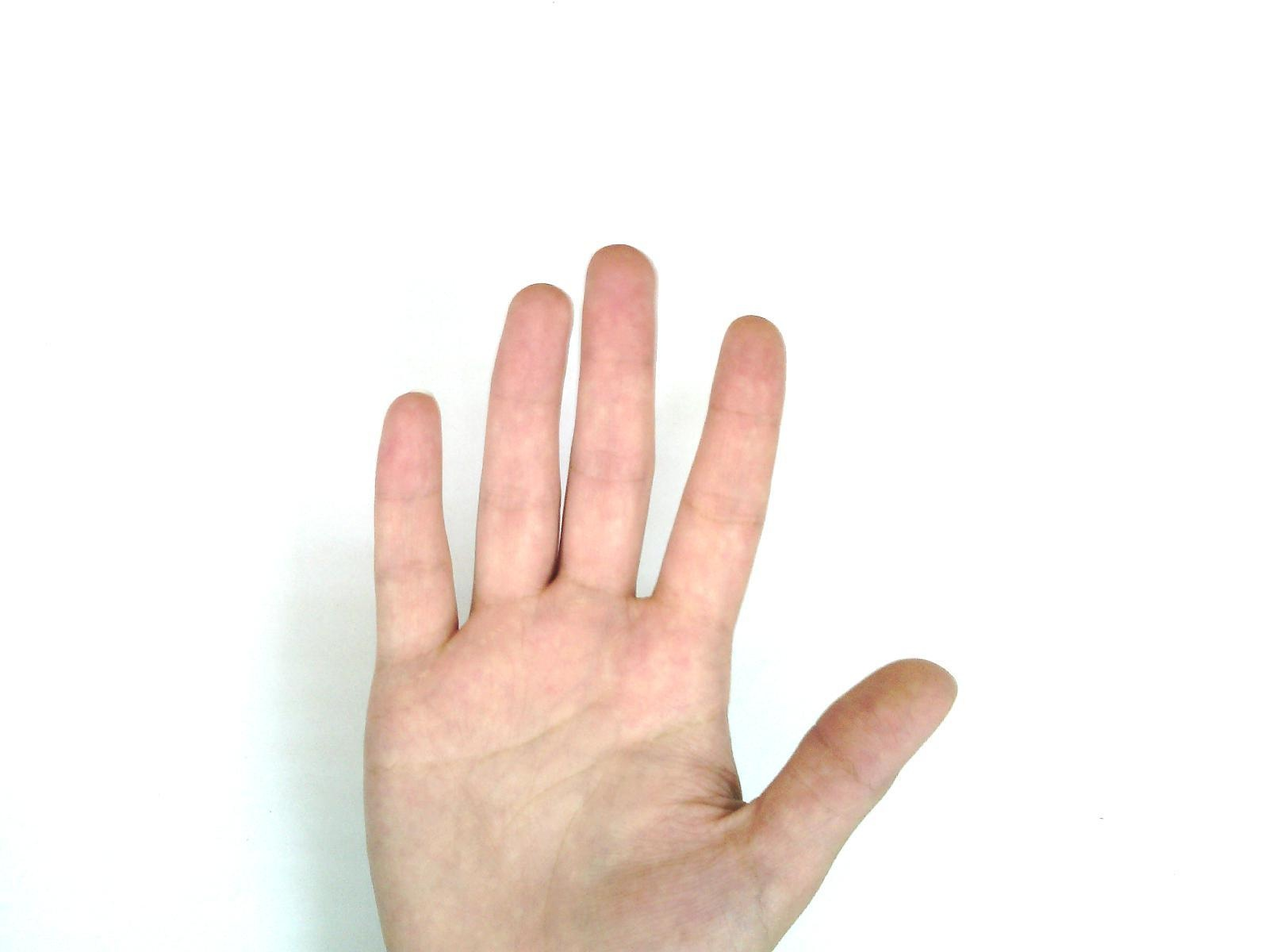open_palm: (358, 243, 960, 951)
